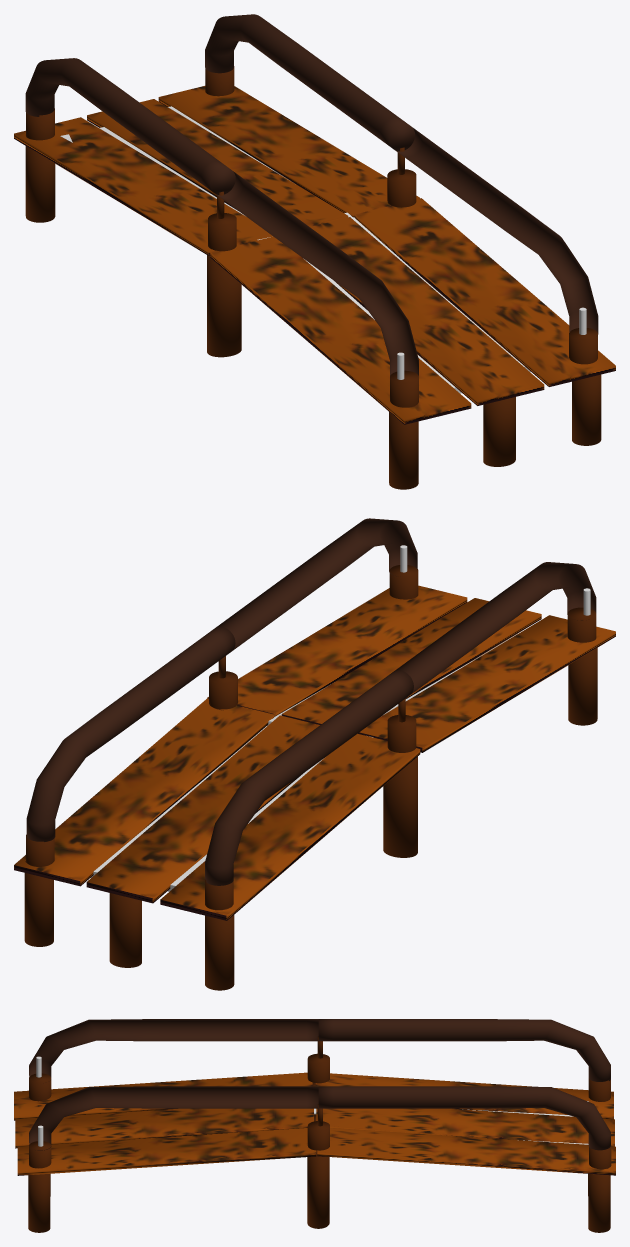
The model's file is bridge.glb.
3 renders of one model, top to bottom at view 1: azimuth 30°, elevation 25°; view 2: azimuth 150°, elevation 25°; view 3: azimuth 270°, elevation 25°, orthographic. The views are drawn at different scales.
Visible parts, largest first — view 1: Cube.016, Cylinder.068, Cylinder.058, windows; view 2: Cube.016, Cylinder.068, Cylinder.058, windows; view 3: Cube.016, Cylinder.068, Cylinder.058.
Boxes of the visible parts, x1=… form: Cube.016: x1=14, y1=86, x2=615, y2=424; Cylinder.068: x1=25, y1=14, x2=598, y2=375; Cylinder.058: x1=25, y1=66, x2=601, y2=489; windows: x1=60, y1=106, x2=531, y2=393; Cube.016: x1=14, y1=585, x2=615, y2=920; Cylinder.068: x1=26, y1=518, x2=596, y2=885; Cylinder.058: x1=24, y1=565, x2=597, y2=990; windows: x1=91, y1=633, x2=517, y2=891; Cube.016: x1=14, y1=1072, x2=615, y2=1175; Cylinder.068: x1=29, y1=1019, x2=610, y2=1150; Cylinder.058: x1=28, y1=1036, x2=611, y2=1232.
Bounding box in the file's own units: 3.18 × 2.59 × 10.09.
Materials: 4 (1 with a texture image).
